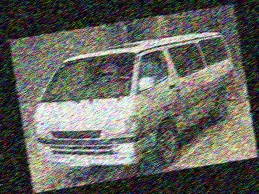van: (23, 26, 244, 180)
